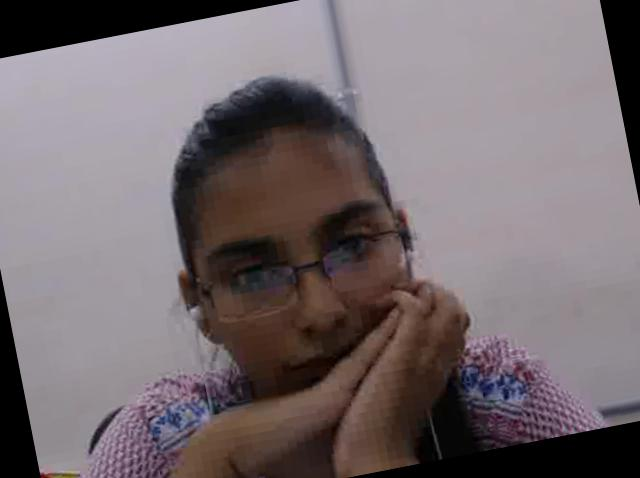bosan: (168, 124, 433, 439)
